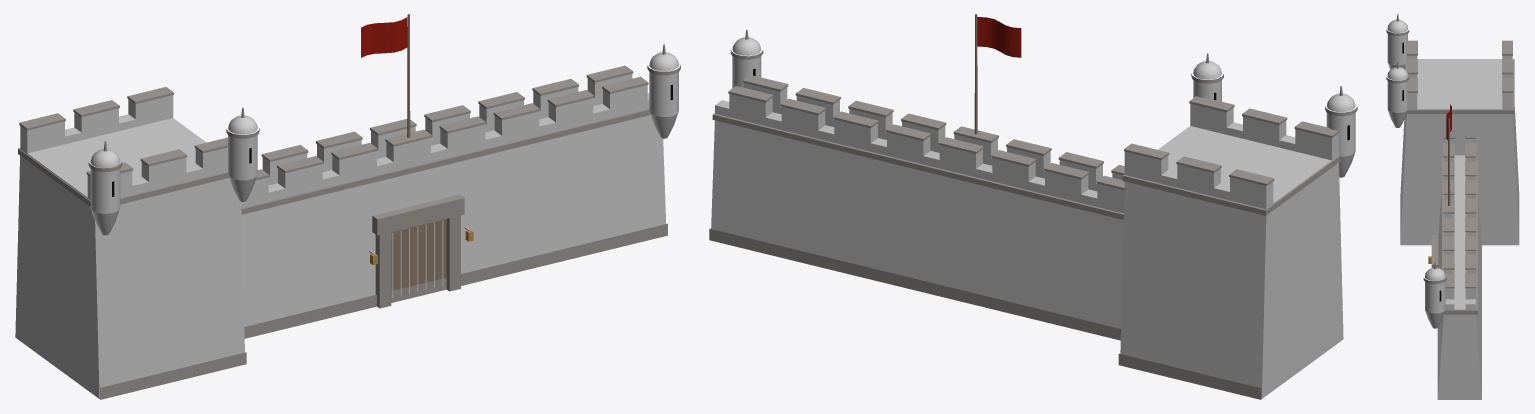
File: SM_Art_Settlement_Fort_5.gltf
3 renders of one model, left to right at view 1: azimuth 30°, elevation 25°; view 2: azimuth 150°, elevation 25°; view 3: azimuth 270°, elevation 25°, orthographic. The views are drawn at different scales.
Visible parts, largest first — view 1: SM_Art_Settlement_Fort_5; view 2: SM_Art_Settlement_Fort_5; view 3: SM_Art_Settlement_Fort_5.
Boxes of the visible parts, bbox=[...] form: SM_Art_Settlement_Fort_5: bbox=[15, 14, 680, 399]; SM_Art_Settlement_Fort_5: bbox=[709, 14, 1357, 399]; SM_Art_Settlement_Fort_5: bbox=[1386, 14, 1519, 399].
Size of the model in its own units: 29.5 by 12.65 by 7.91.
